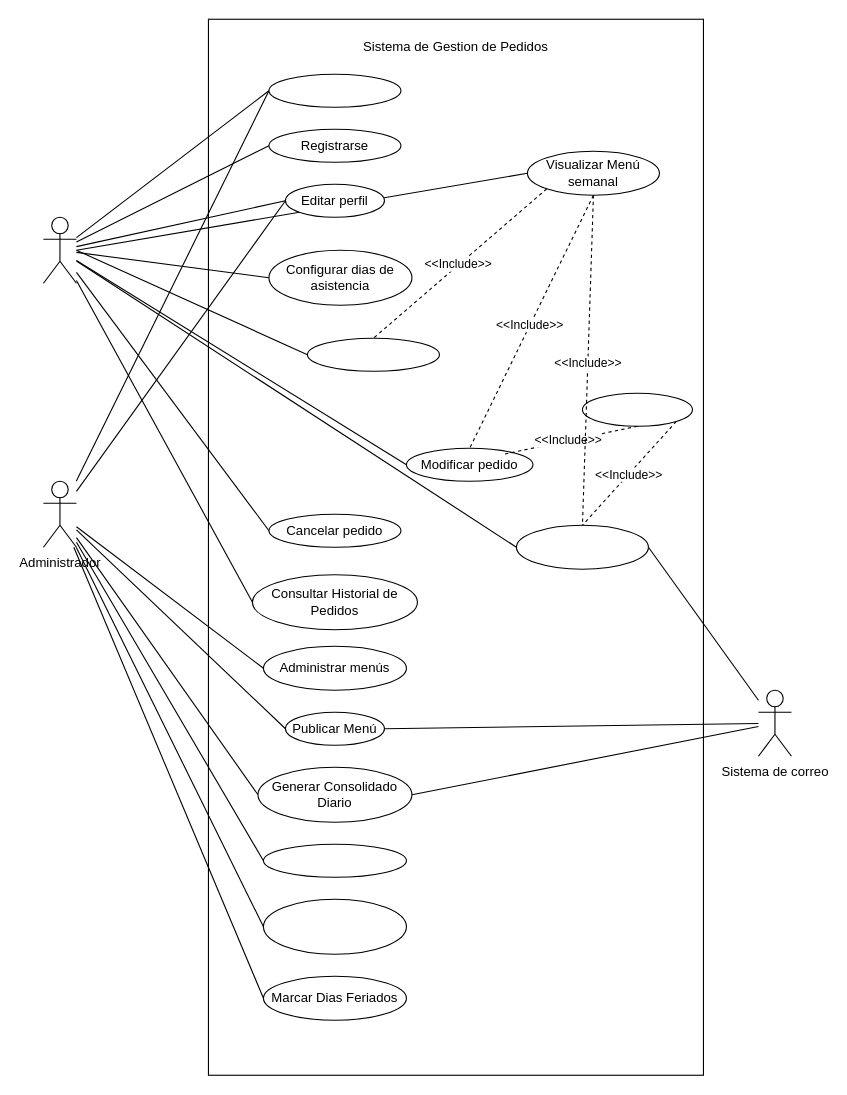
The diagram is 847 pixels wide and 1095 high, and some of its shapes have lost their labels. Each missing label, with the centre of its shape:
Confirmar Pedido: point (581, 546)
Definir Limite de Pedidos: point (334, 926)
Empleado: point (59, 249)
Gestionar Usuarios: point (334, 860)
Iniciar sesión: point (334, 90)
Registrar pedido: point (372, 354)
Validar pedido: point (636, 409)
